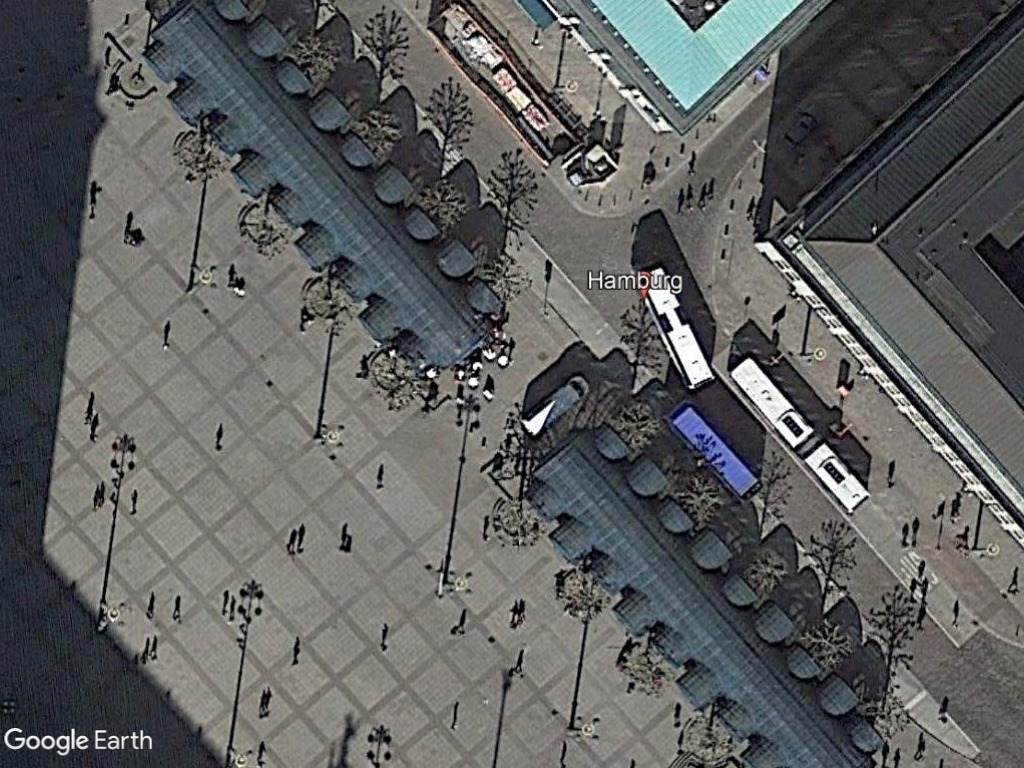bus: (728, 355, 874, 519), (637, 260, 714, 394), (671, 399, 763, 506)
van: (514, 371, 594, 442)
